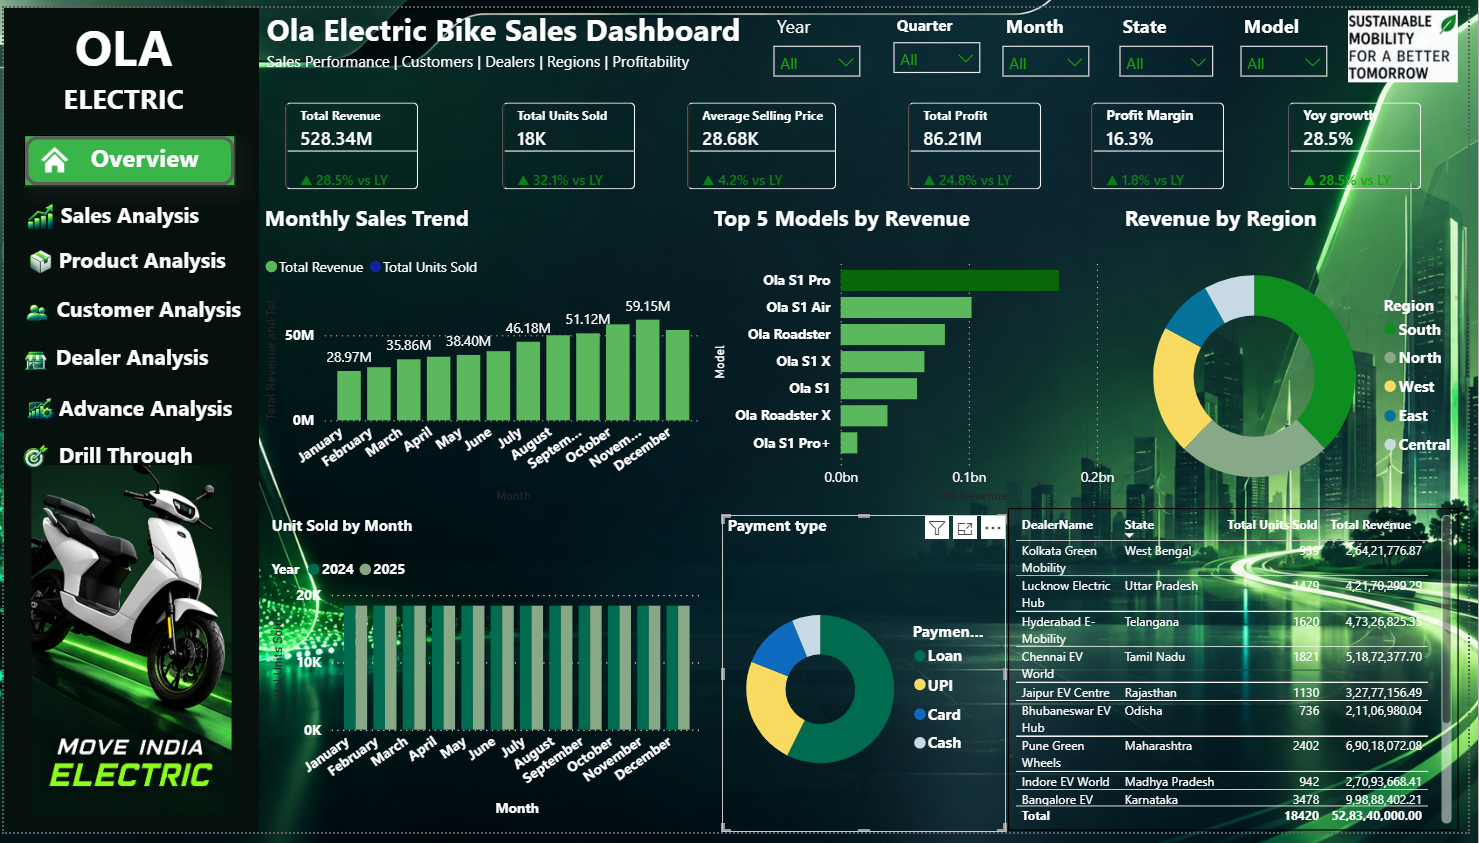

The dashboard page shown, as its layout file describes it:
{"tool":"powerbi","page":{"name":"Page 1","canvas":[1280,720],"ordinal":0},"visuals":[{"type":"shape","box":[0,0,223,720],"z":0},{"type":"textbox","box":[16.5,0,176,104.1],"z":1000},{"type":"actionButton","box":[17.5,110.9,185,45],"z":2000},{"type":"textbox","box":[71,110.9,108.9,44.7],"z":3000},{"type":"image","box":[32.1,120.6,24.3,24],"z":4000},{"type":"image","box":[17.5,170.2,27.2,24.3],"z":5000},{"type":"textbox","box":[42.8,202.3,165.3,52.5],"z":6000},{"type":"textbox","box":[40.9,245.1,180.9,41.8],"z":7000},{"type":"image","box":[20.4,210.1,24,24],"z":8000},{"type":"textbox","box":[44.7,162.4,147.8,39.9],"z":9000},{"type":"image","box":[16.5,254.8,24,24],"z":10000},{"type":"textbox","box":[39.9,286.9,156.6,44.7],"z":11000},{"type":"image","box":[15.6,296.7,24,24],"z":12000},{"type":"textbox","box":[42.8,331.7,177,37.9],"z":13000},{"type":"image","box":[20.4,338.5,24,24],"z":14000},{"type":"textbox","box":[42.8,372.5,132.3,40.9],"z":15000},{"type":"image","box":[0,399.4,223,306.4],"z":16000},{"type":"image","box":[14.6,380.3,24,24],"z":17000},{"type":"textbox","title":"Ola Electric Bike Sales Dashboard","box":[224.8,0,431.6,67.2],"z":18000},{"type":"slicer","fields":{"Values":["DimDate (2).Date.Variation.Date Hierarchy.Year"]},"box":[662.7,0,96.3,67.1],"z":19000},{"type":"slicer","fields":{"Values":["DimDate.Quarter"]},"box":[767.2,0.8,96,67],"z":20000},{"type":"slicer","fields":{"Values":["DimDate.Month"]},"box":[863.3,0,96,67],"z":21000},{"type":"slicer","fields":{"Values":["DimLocation.State"]},"box":[965.3,0,102,66.6],"z":22000},{"type":"slicer","fields":{"Values":["DimProduct.Model"]},"box":[1071,0,104,66],"z":23000},{"type":"image","box":[1174.9,0,96,67],"z":24000},{"type":"cardVisual","fields":{"Data":["-measures.Total Revenue"]},"box":[229.1,65.6,150,110],"z":25000},{"type":"cardVisual","fields":{"Data":["-measures.Total Units Sold"]},"box":[418.8,65.6,150,110.2],"z":26000},{"type":"cardVisual","fields":{"Data":["-measures.Average Selling Price"]},"box":[580.5,65.6,164,110],"z":27000},{"type":"cardVisual","fields":{"Data":["-measures.Total Profit"]},"box":[773.8,65.6,150,110],"z":28000},{"type":"cardVisual","fields":{"Data":["-measures.Profit Margin"]},"box":[933.8,65.6,150,110],"z":29000},{"type":"cardVisual","fields":{"Data":["-measures.Yoy growth"]},"box":[1106,65.6,150,110.2],"z":30000},{"type":"columnChart","title":"Monthly Sales Trend","fields":{"Category":["DimDate.Date.Variation.Date Hierarchy.Month"],"Y":["-measures.Total Revenue","-measures.Total Units Sold"]},"box":[207.8,169.8,392,267],"z":31000},{"type":"barChart","title":"Top 5 Models by Revenue","fields":{"Y":["-measures.Total Revenue"],"Category":["DimProduct.Model"]},"box":[615.2,170.1,360,266.9],"z":32000},{"type":"donutChart","title":"Revenue by Region","fields":{"Y":["-measures.Total Revenue"],"Category":["DimLocation.Region"]},"box":[975.2,170.1,304.5,266.9],"z":33000},{"type":"lineClusteredColumnComboChart","title":"Total Units Sold","fields":{"Category":["DimDate (2).Date.Variation.Date Hierarchy.Month"],"Y":["-measures.Total Units Sold"],"Series":["DimDate (2).Date.Variation.Date Hierarchy.Year"]},"box":[229.3,443.3,386,268.7],"z":34000},{"type":"donutChart","title":"Payment type","fields":{"Category":["FactSales.PaymentType"],"Y":["-measures.Total Revenue"]},"box":[619,443.3,278.9,262.3],"z":35000},{"type":"tableEx","fields":{"Values":["DimDealer.DealerName","DimLocation.State","-measures.Total Units Sold","-measures.Total Revenue"]},"box":[897.9,443.3,383,262.3],"z":36000}]}

Visuals, with their boxes in screenshot pixels (x1, y1, x2, y2), scaled from the page's 1280x720 canvas onto the 1479x843 screenshot:
shape: Rect(0, 0, 258, 842)
textbox: Rect(19, 0, 222, 122)
actionButton: Rect(20, 130, 234, 183)
textbox: Rect(82, 130, 208, 182)
image: Rect(37, 141, 65, 169)
image: Rect(20, 199, 52, 228)
textbox: Rect(49, 237, 240, 298)
textbox: Rect(47, 287, 256, 336)
image: Rect(24, 246, 51, 274)
textbox: Rect(52, 190, 222, 237)
image: Rect(19, 298, 47, 326)
textbox: Rect(46, 336, 227, 388)
image: Rect(18, 347, 46, 375)
textbox: Rect(49, 388, 254, 433)
image: Rect(24, 396, 51, 424)
textbox: Rect(49, 436, 202, 484)
image: Rect(0, 468, 258, 826)
image: Rect(17, 445, 45, 473)
"Ola Electric Bike Sales Dashboard" textbox: Rect(260, 0, 758, 79)
slicer - DimDate (2).Date.Variation.Date Hierarchy.Year: Rect(766, 0, 877, 79)
slicer - DimDate.Quarter: Rect(886, 1, 997, 79)
slicer - DimDate.Month: Rect(998, 0, 1108, 78)
slicer - DimLocation.State: Rect(1115, 0, 1233, 78)
slicer - DimProduct.Model: Rect(1238, 0, 1358, 77)
image: Rect(1358, 0, 1468, 78)
cardVisual - -measures.Total Revenue: Rect(265, 77, 438, 206)
cardVisual - -measures.Total Units Sold: Rect(484, 77, 657, 206)
cardVisual - -measures.Average Selling Price: Rect(671, 77, 860, 206)
cardVisual - -measures.Total Profit: Rect(894, 77, 1067, 206)
cardVisual - -measures.Profit Margin: Rect(1079, 77, 1252, 206)
cardVisual - -measures.Yoy growth: Rect(1278, 77, 1451, 206)
"Monthly Sales Trend" columnChart: Rect(240, 199, 693, 511)
"Top 5 Models by Revenue" barChart: Rect(711, 199, 1127, 512)
"Revenue by Region" donutChart: Rect(1127, 199, 1478, 512)
"Total Units Sold" lineClusteredColumnComboChart: Rect(265, 519, 711, 834)
"Payment type" donutChart: Rect(715, 519, 1037, 826)
tableEx - DimDealer.DealerName x DimLocation.State: Rect(1037, 519, 1478, 826)
